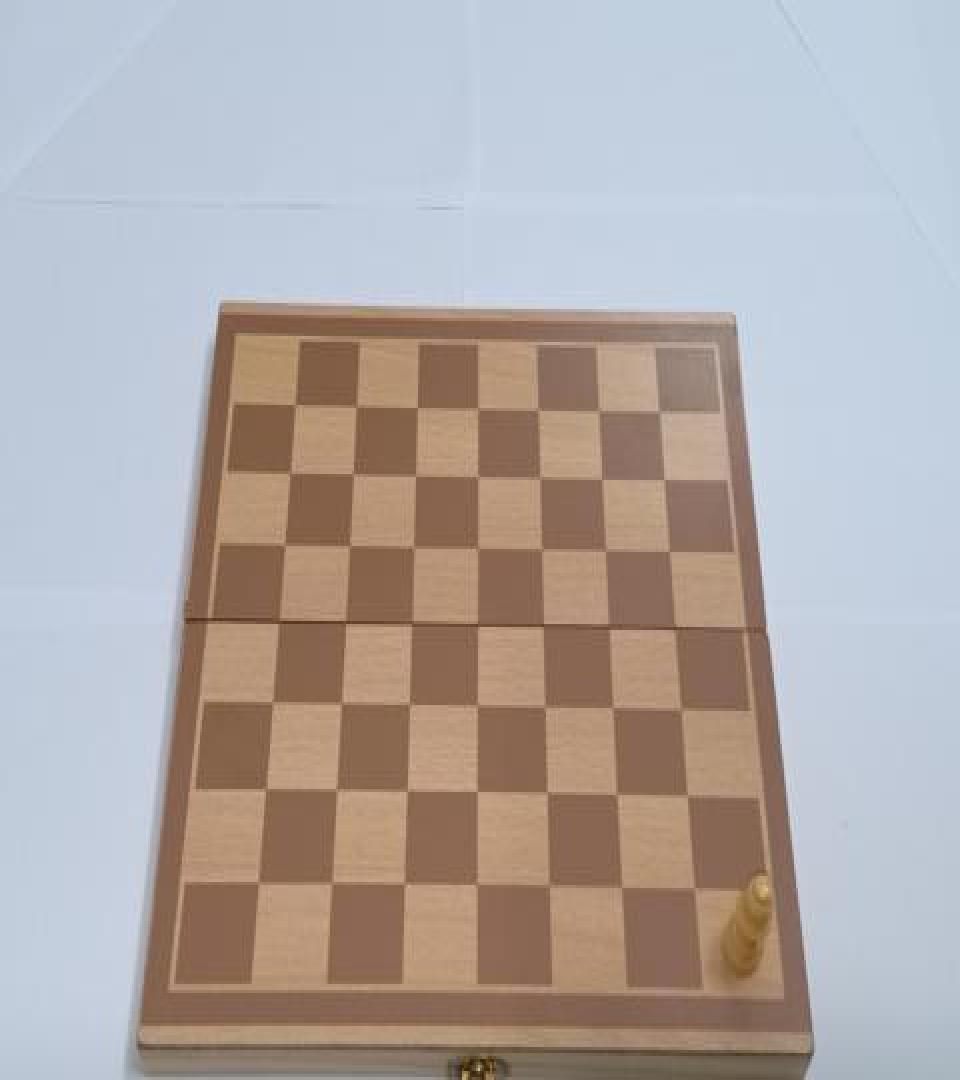xcorner: (287, 394, 305, 422), (347, 394, 365, 422), (466, 694, 484, 722), (534, 694, 552, 722), (592, 466, 610, 494), (654, 466, 672, 494), (281, 462, 299, 489), (276, 534, 294, 561), (269, 610, 287, 637), (256, 777, 274, 804), (248, 870, 266, 897), (335, 612, 353, 639), (331, 693, 349, 720), (326, 778, 344, 805), (321, 870, 339, 897), (408, 396, 426, 423), (401, 612, 419, 639), (398, 693, 416, 720), (396, 780, 414, 807), (468, 396, 486, 423), (467, 465, 485, 492), (467, 537, 485, 564), (466, 780, 484, 807), (465, 873, 483, 900), (528, 397, 546, 424), (529, 465, 547, 492), (531, 537, 549, 564), (538, 873, 556, 900), (588, 399, 606, 426), (595, 538, 613, 565), (598, 615, 616, 642), (602, 696, 620, 723), (606, 783, 624, 810), (610, 874, 628, 901), (649, 399, 667, 426), (659, 540, 677, 567), (664, 617, 682, 644), (676, 783, 694, 810), (682, 876, 700, 903), (263, 692, 281, 718), (343, 464, 361, 490), (339, 536, 357, 562), (405, 464, 423, 490), (403, 536, 421, 562), (393, 872, 411, 898), (467, 614, 485, 640), (532, 614, 550, 640), (536, 782, 554, 808), (670, 698, 688, 724)
